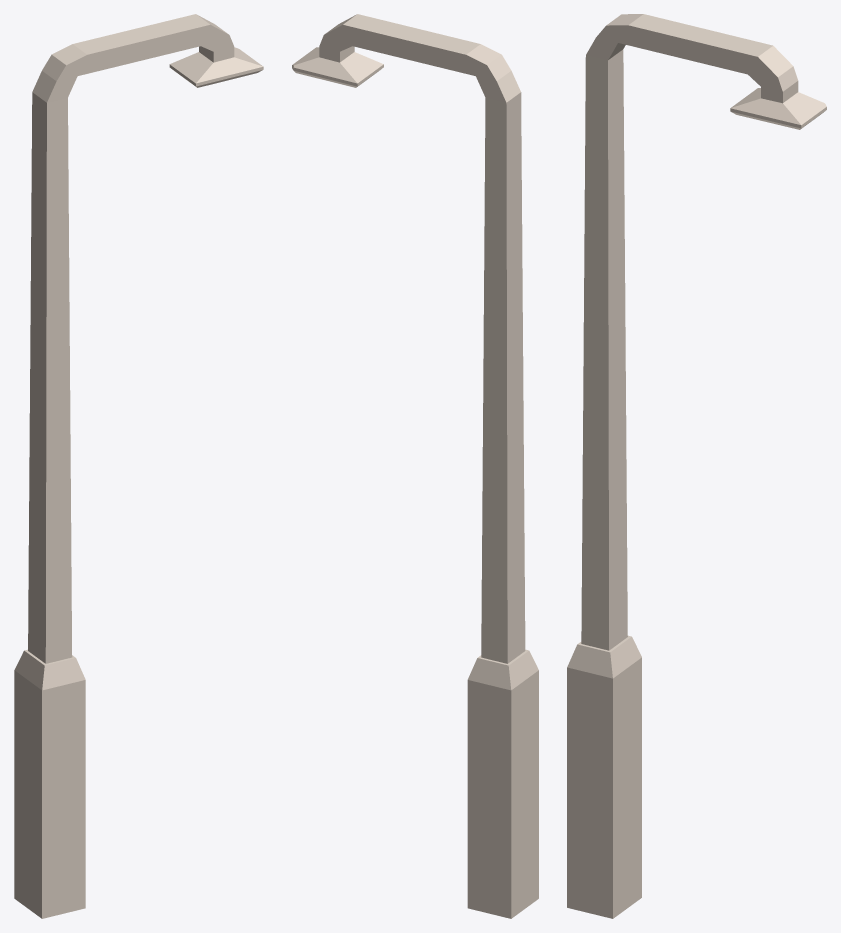
The model's file is street-lamp.glb.
3 views of the same model, side by side, from view 1: azimuth 30°, elevation 25°; view 2: azimuth 150°, elevation 25°; view 3: azimuth 330°, elevation 25° (orthographic). The views are drawn at different scales.
Visible parts, largest first — view 1: Cube; view 2: Cube; view 3: Cube.
Boxes of the visible parts, x1,y1,x2,y2 form: Cube: (14, 14, 263, 918); Cube: (292, 14, 538, 918); Cube: (567, 14, 826, 918).
Size of the model in its own units: 1.2 by 4.38 by 0.2599.
